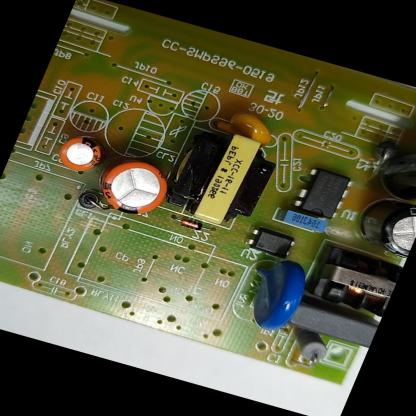Cap1: (88, 152, 177, 222)
Cap2: (52, 131, 108, 176)
Cap3: (350, 192, 416, 260)
Cap4: (372, 132, 416, 208)
MOSFET: (294, 166, 355, 220)
Mov: (233, 252, 316, 336)
Resistor: (283, 325, 335, 366)
Transformer: (160, 122, 284, 232), (303, 243, 404, 318)
